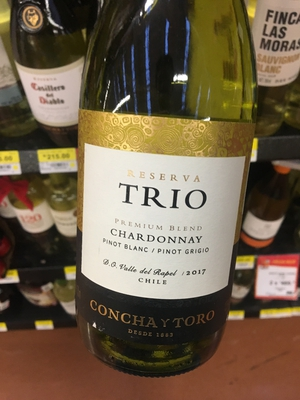trio chardonnay: (70, 1, 255, 382)
